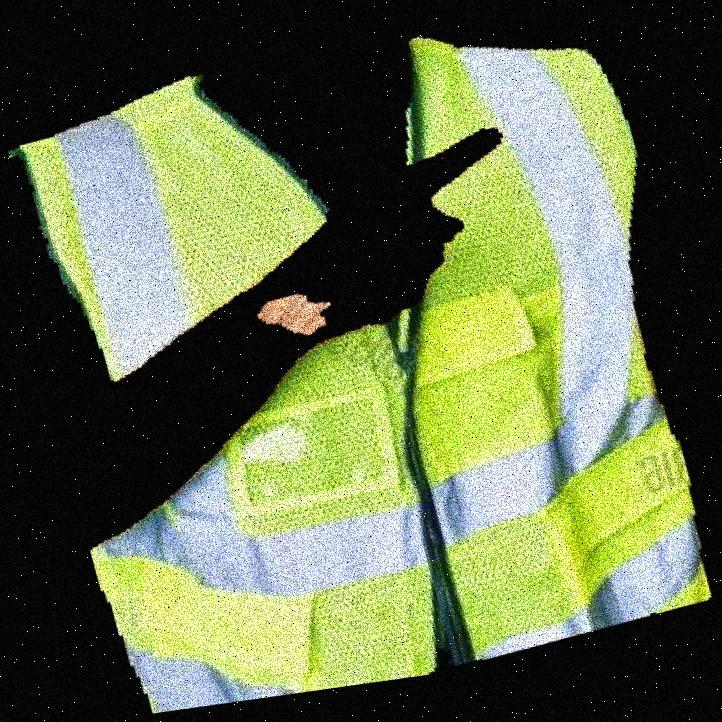Colete: (133, 0, 629, 721)
